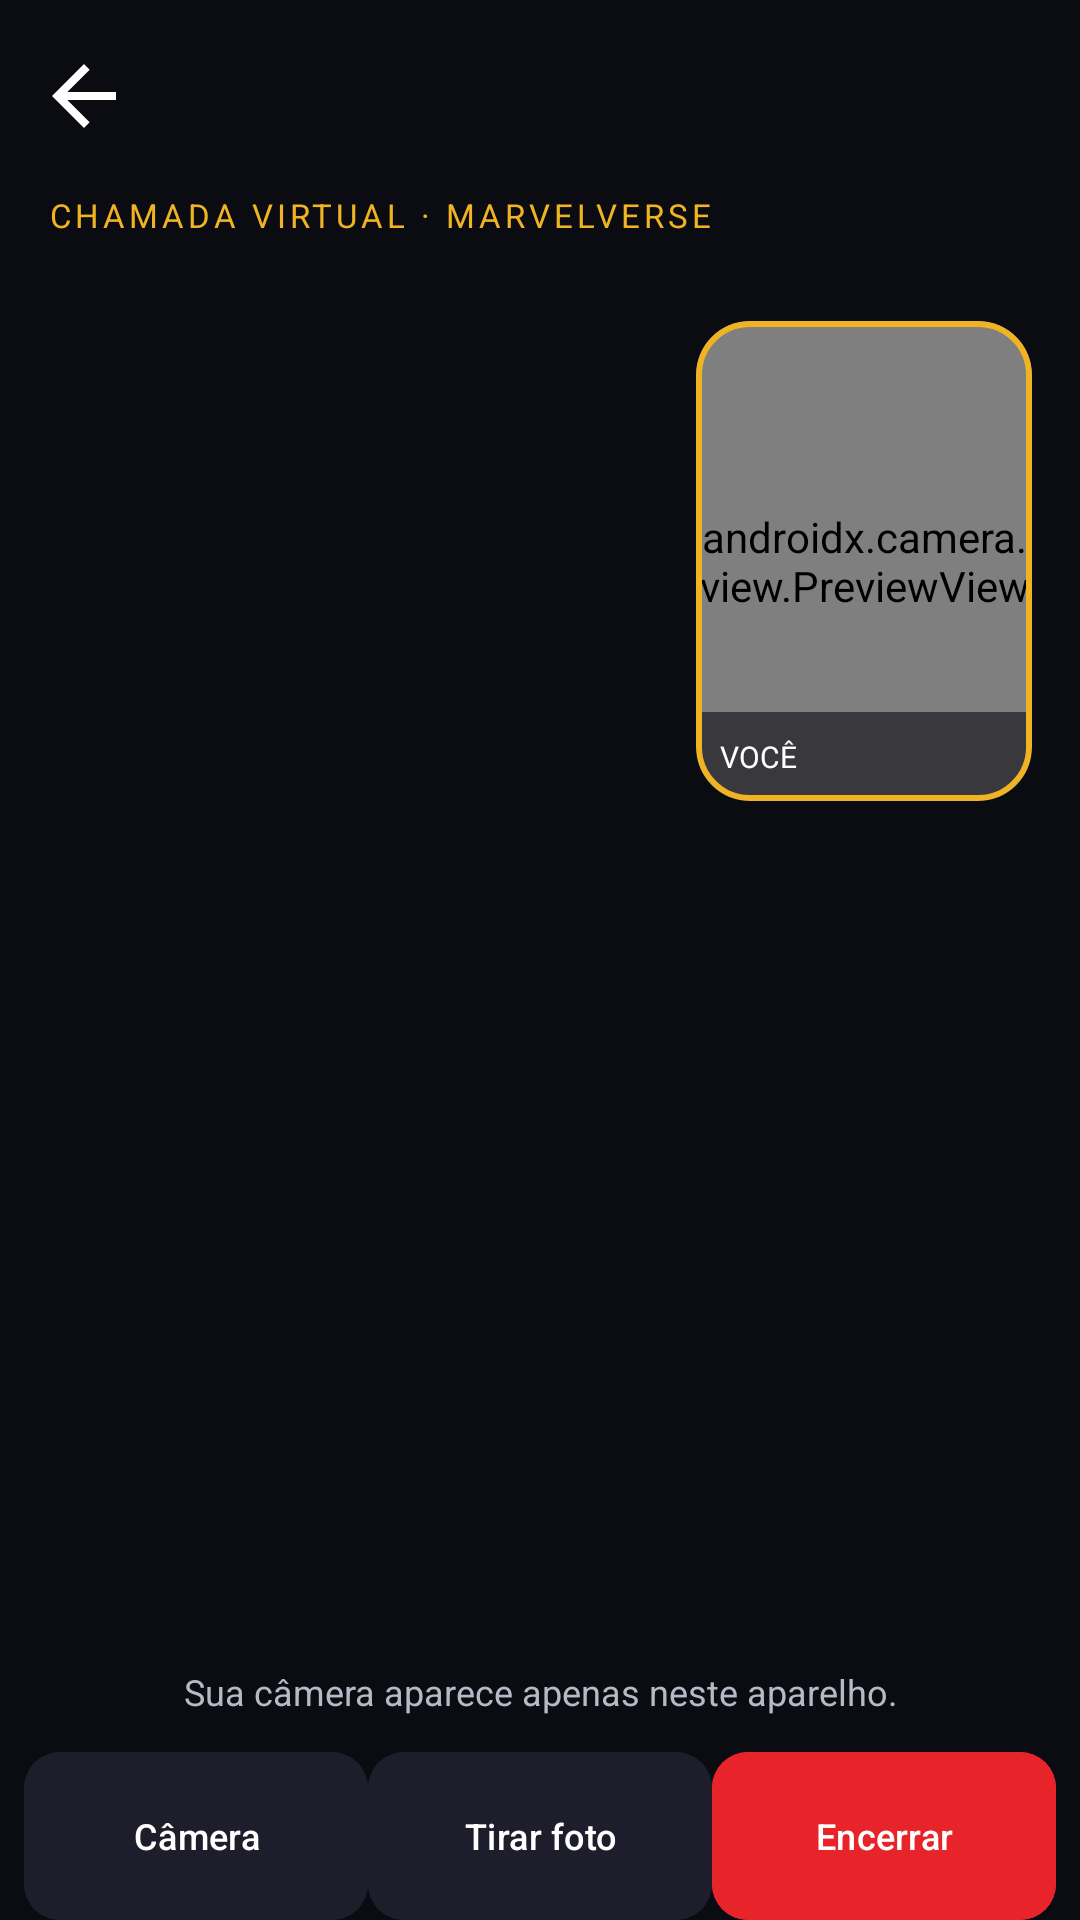

Point at icon controls on the screen. Image size 1080px×1920px, points as point (x, y).
Voltar: point (84, 96)
